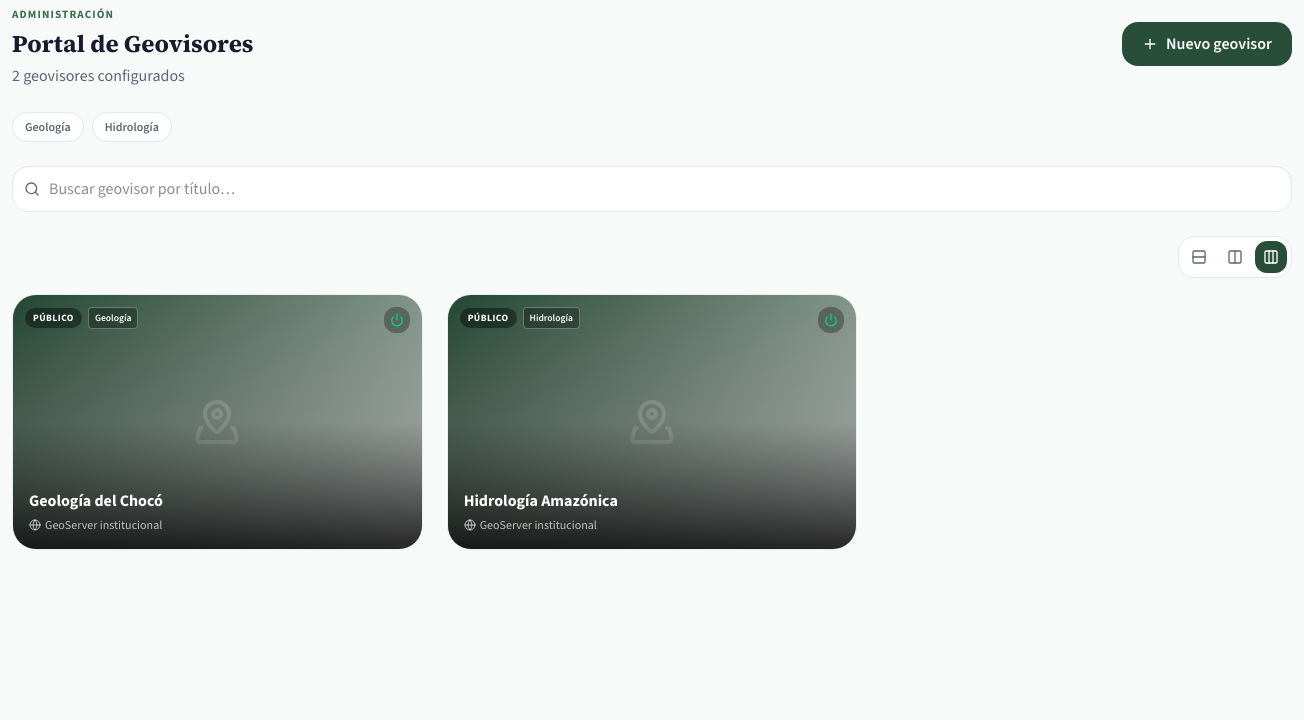
it: GestionGeovisores — buscador y filtro por categoría › el buscador filtra por título y muestra un mensaje cuando no hay coincidencias
The width and height of the screenshot is (1304, 720).
Expected: the text "Geología del Chocó" is shown, [29, 490, 163, 511]
Expected: the text "Hidrología Amazónica" is shown, [464, 490, 618, 511]
Type "hidro" into the field labelled "Buscar geovisor por título…" at (652, 189), box [12, 166, 1292, 212]
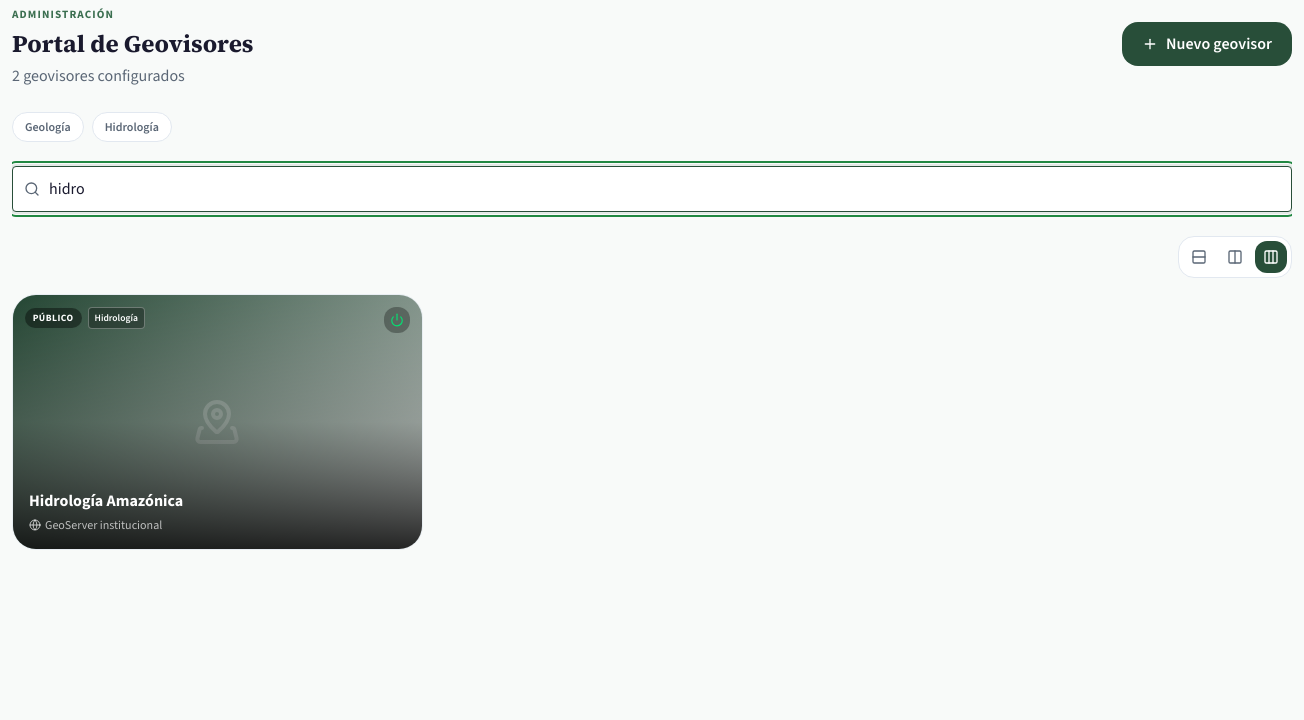
Expected: the text "Hidrología Amazónica" is shown, [29, 490, 183, 511]
Now the button "Geología del Chocó" is gone
Replace the text in the field named "Buscar geovisor por título" with "no existe nada así" at (652, 189), box [12, 166, 1292, 212]
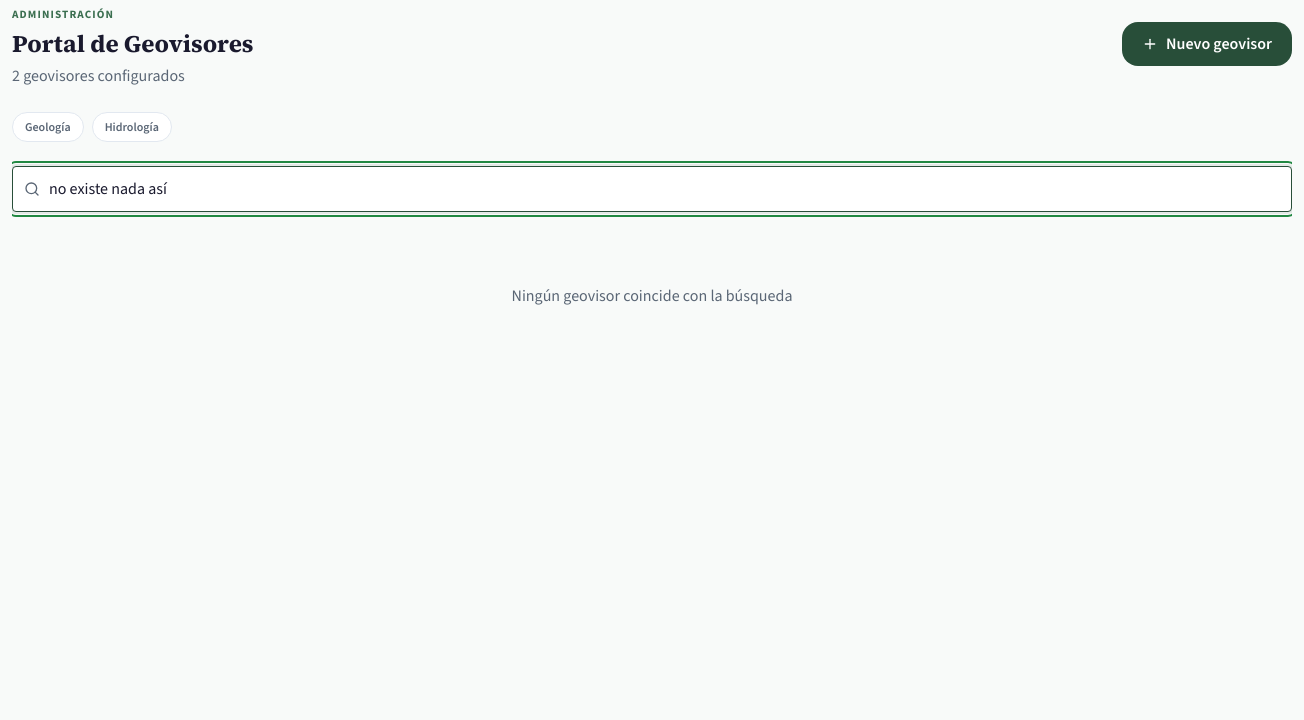
Now the text "Ningún geovisor coincide con la búsqueda" is shown, box [512, 285, 792, 306]
